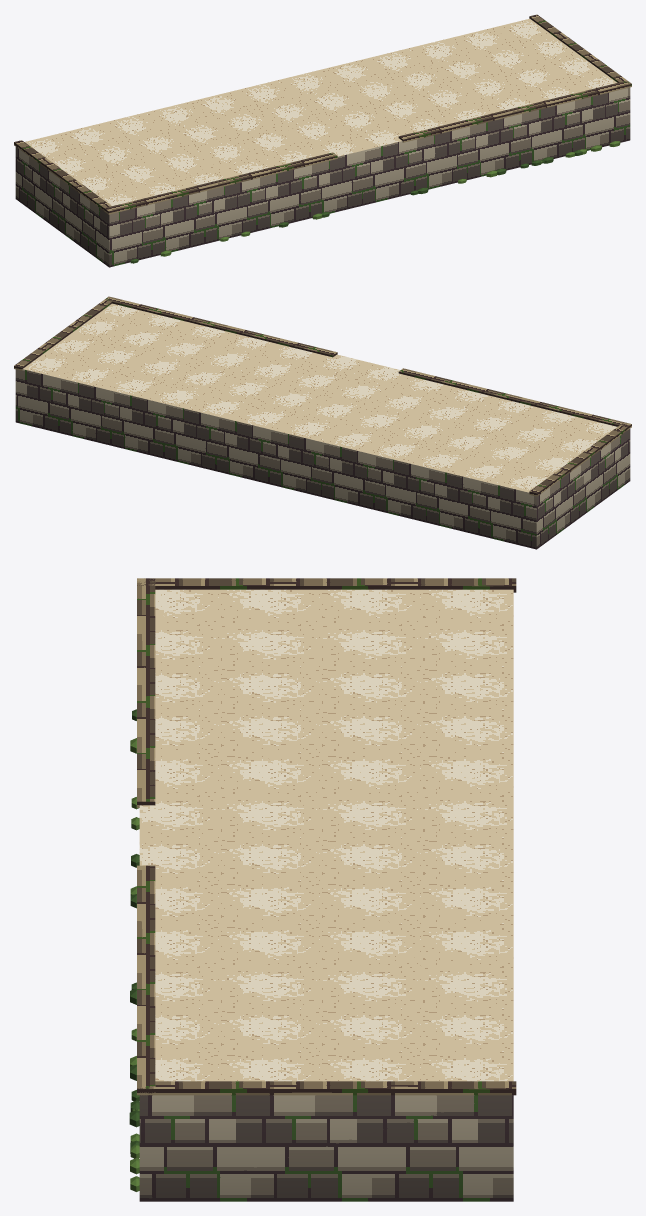
Rendered from scene_plat_b4.glb.
3 views of the same model, one above another, from view 1: azimuth 30°, elevation 25°; view 2: azimuth 150°, elevation 25°; view 3: azimuth 270°, elevation 25° (orthographic). The views are drawn at different scales.
Visible parts, largest first — view 1: scene_plat_b4; view 2: scene_plat_b4; view 3: scene_plat_b4.
Boxes of the visible parts, box(x1,y1,x2,y2) form: scene_plat_b4: box(14, 14, 631, 267); scene_plat_b4: box(14, 296, 631, 549); scene_plat_b4: box(129, 578, 516, 1201).
Size of the model in its own units: 23.9 by 2.57 by 7.64.
Materials: 3 (2 with a texture image).
